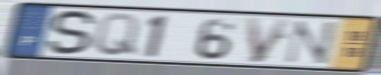1: (144, 13, 171, 59)
6: (194, 16, 237, 61)
N: (282, 19, 340, 67)
Q: (92, 11, 142, 57)
S: (45, 8, 98, 57)
V: (243, 16, 294, 65)
